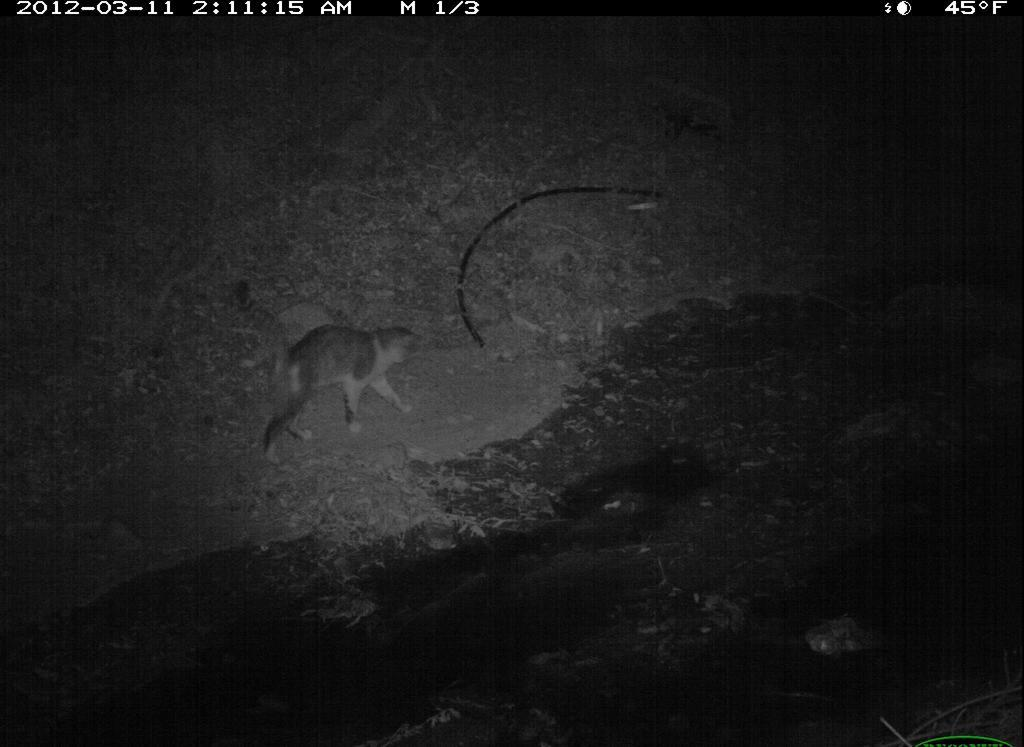cat: (227, 274, 428, 469)
